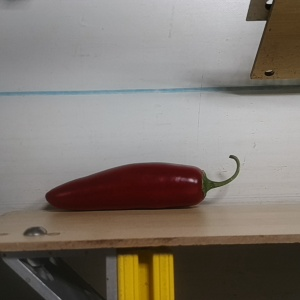Cut Point: (184, 165, 217, 207)
